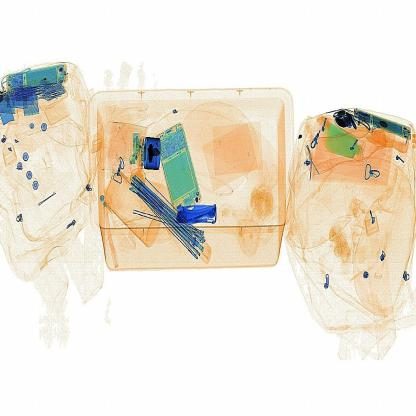knife: (173, 200, 222, 233)
